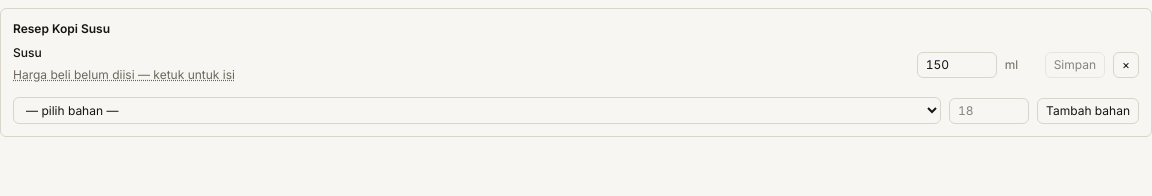
Test: takaran yang ditolak sebelum menyentuh server › nol ditolak — DB memasang CHECK qty_per_unit > 0
Select "Biji Kopi" in the dropdown named "Bahan untuk Kopi Susu": (477, 110) 13,97 -> 941,124
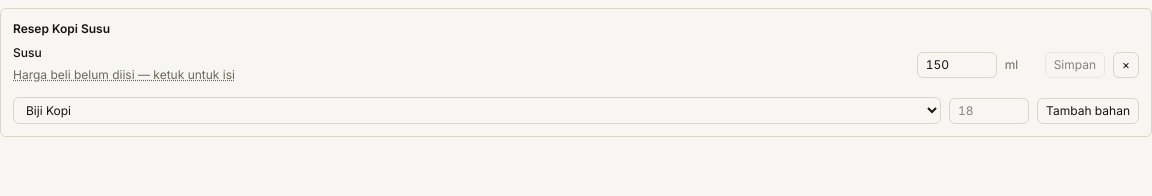
In the field named "Takaran untuk Kopi Susu": (989, 110) 949,98 -> 1029,124, type "0"
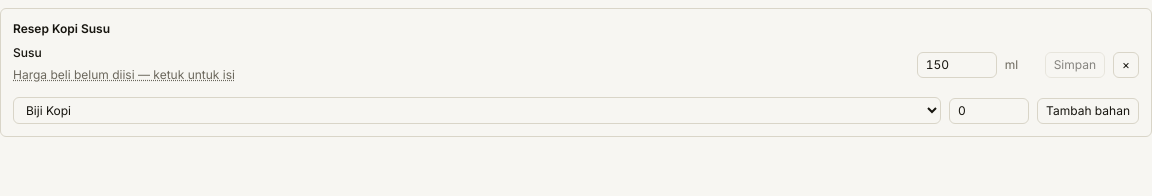
Click the button "Tambah bahan": (1088, 110) 1037,98 -> 1139,124
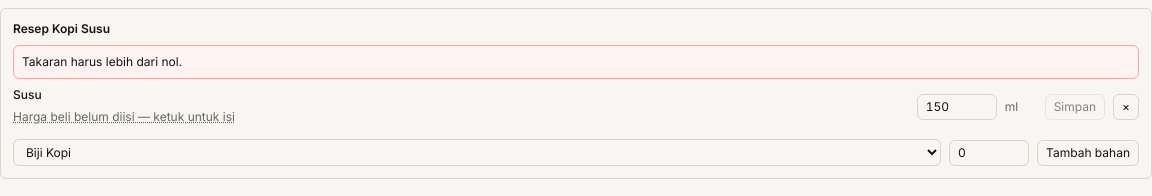
Check: the message shows "lebih dari nol", box 22,54 -> 182,69
